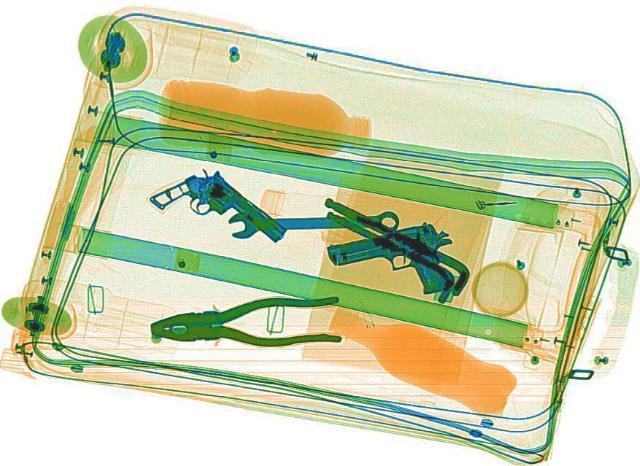Gun: (145, 161, 295, 265), (320, 217, 476, 311)
Pliers: (146, 294, 344, 350)
Wrench: (228, 208, 396, 238)
